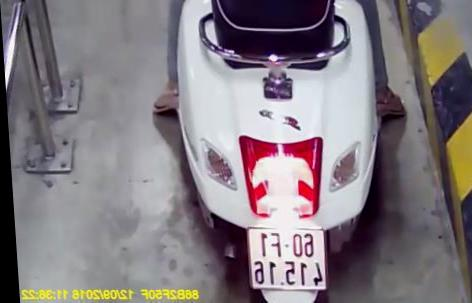License_Plate: (235, 224, 336, 294)
